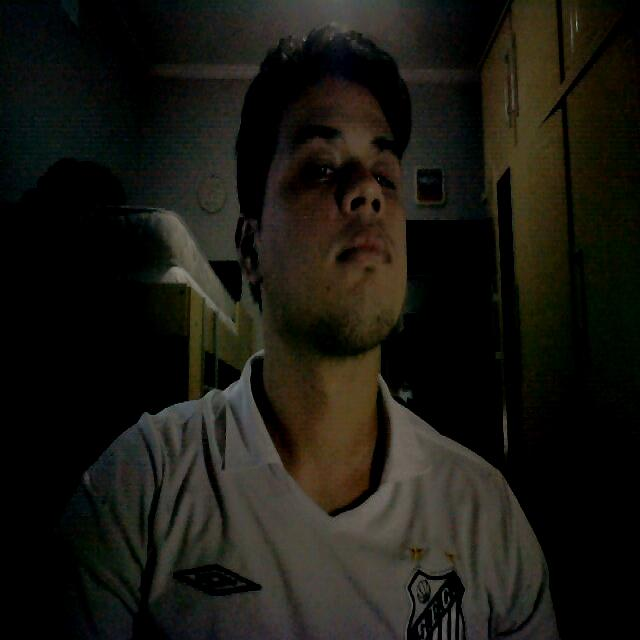acordado: (234, 55, 425, 362)
